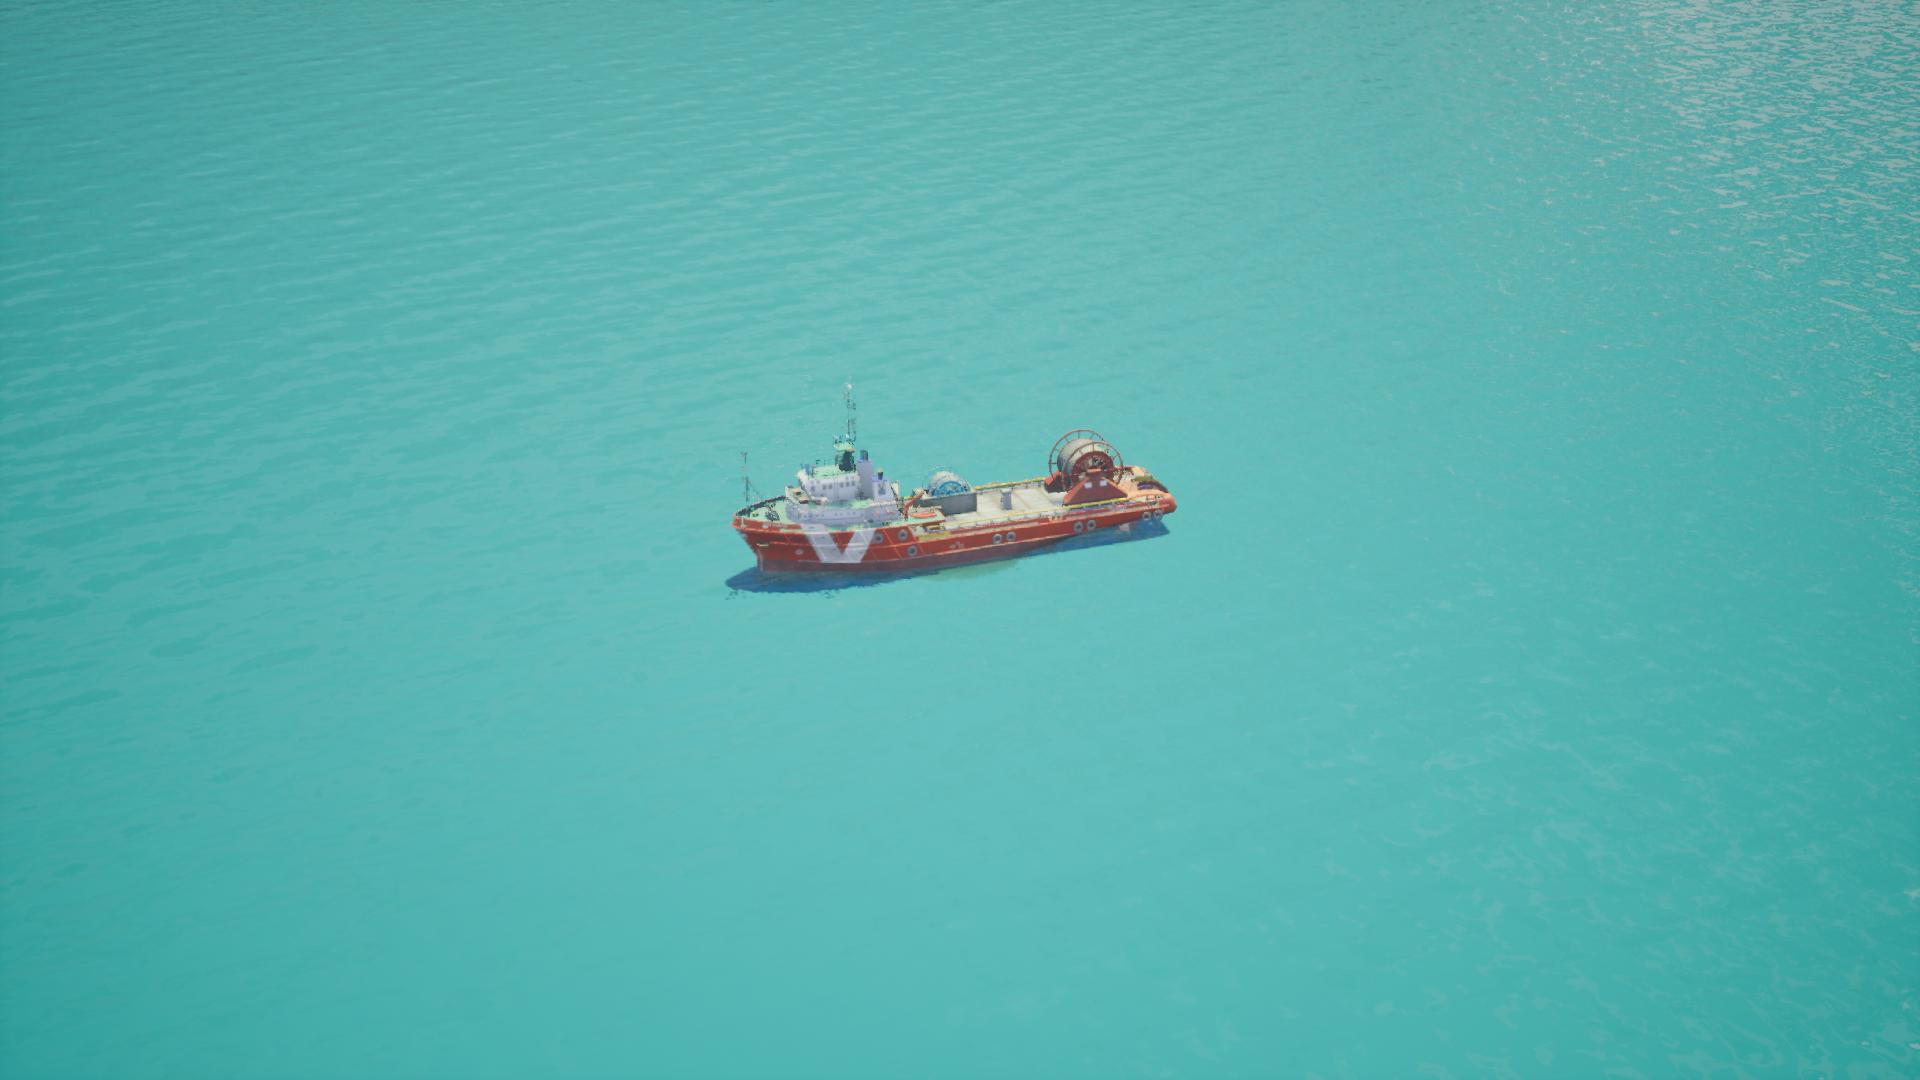Tug Boat: (735, 427, 1174, 589)
